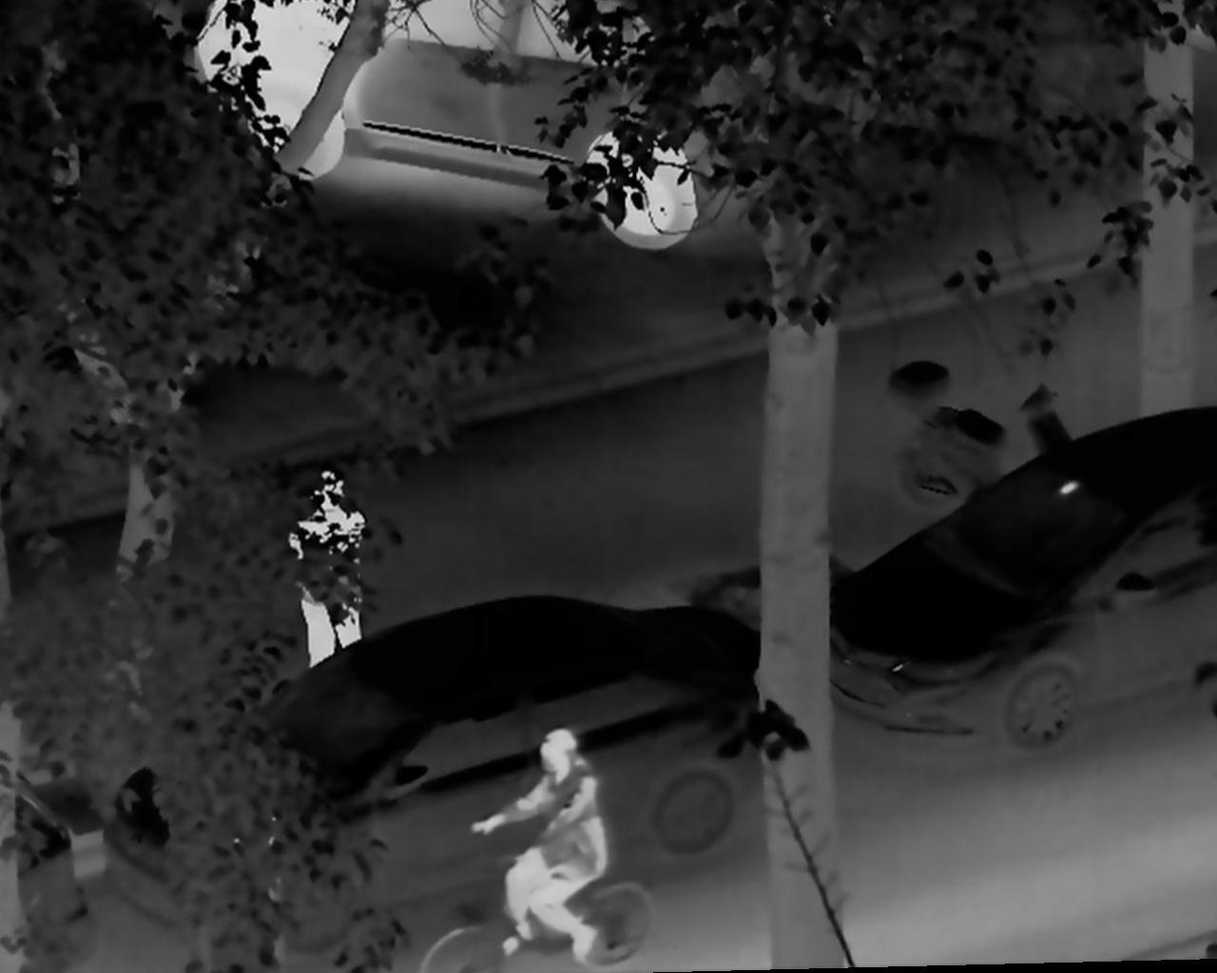person: (462, 723, 604, 967), (285, 464, 363, 677)
